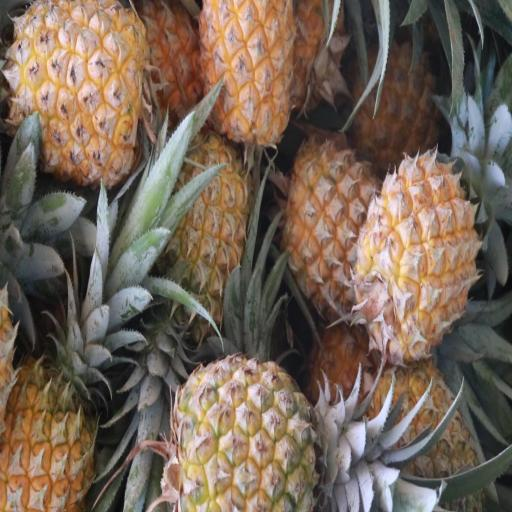------------------------------: (172, 360, 332, 510), (283, 142, 378, 322), (370, 364, 480, 512)
Pineapple - v8 v1: (10, 0, 148, 188), (356, 156, 476, 356), (161, 146, 251, 350), (0, 364, 98, 510), (202, 0, 295, 145), (355, 42, 441, 165)
